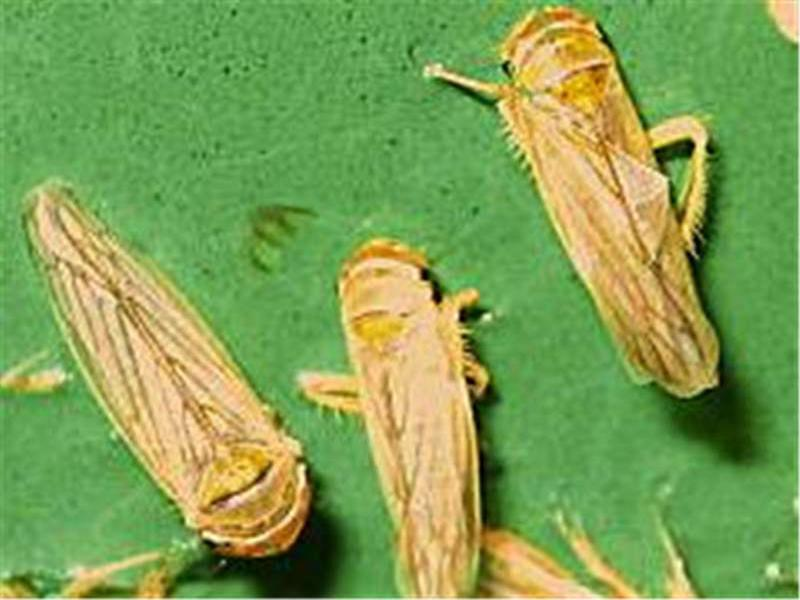Brown_plant_leafhopper: (460, 7, 767, 399), (16, 173, 311, 541), (328, 229, 521, 585)
